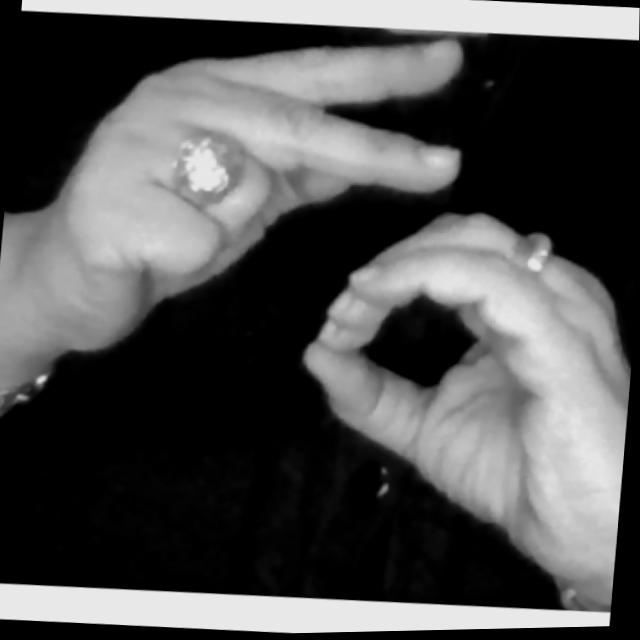O--: (19, 1, 640, 595)
